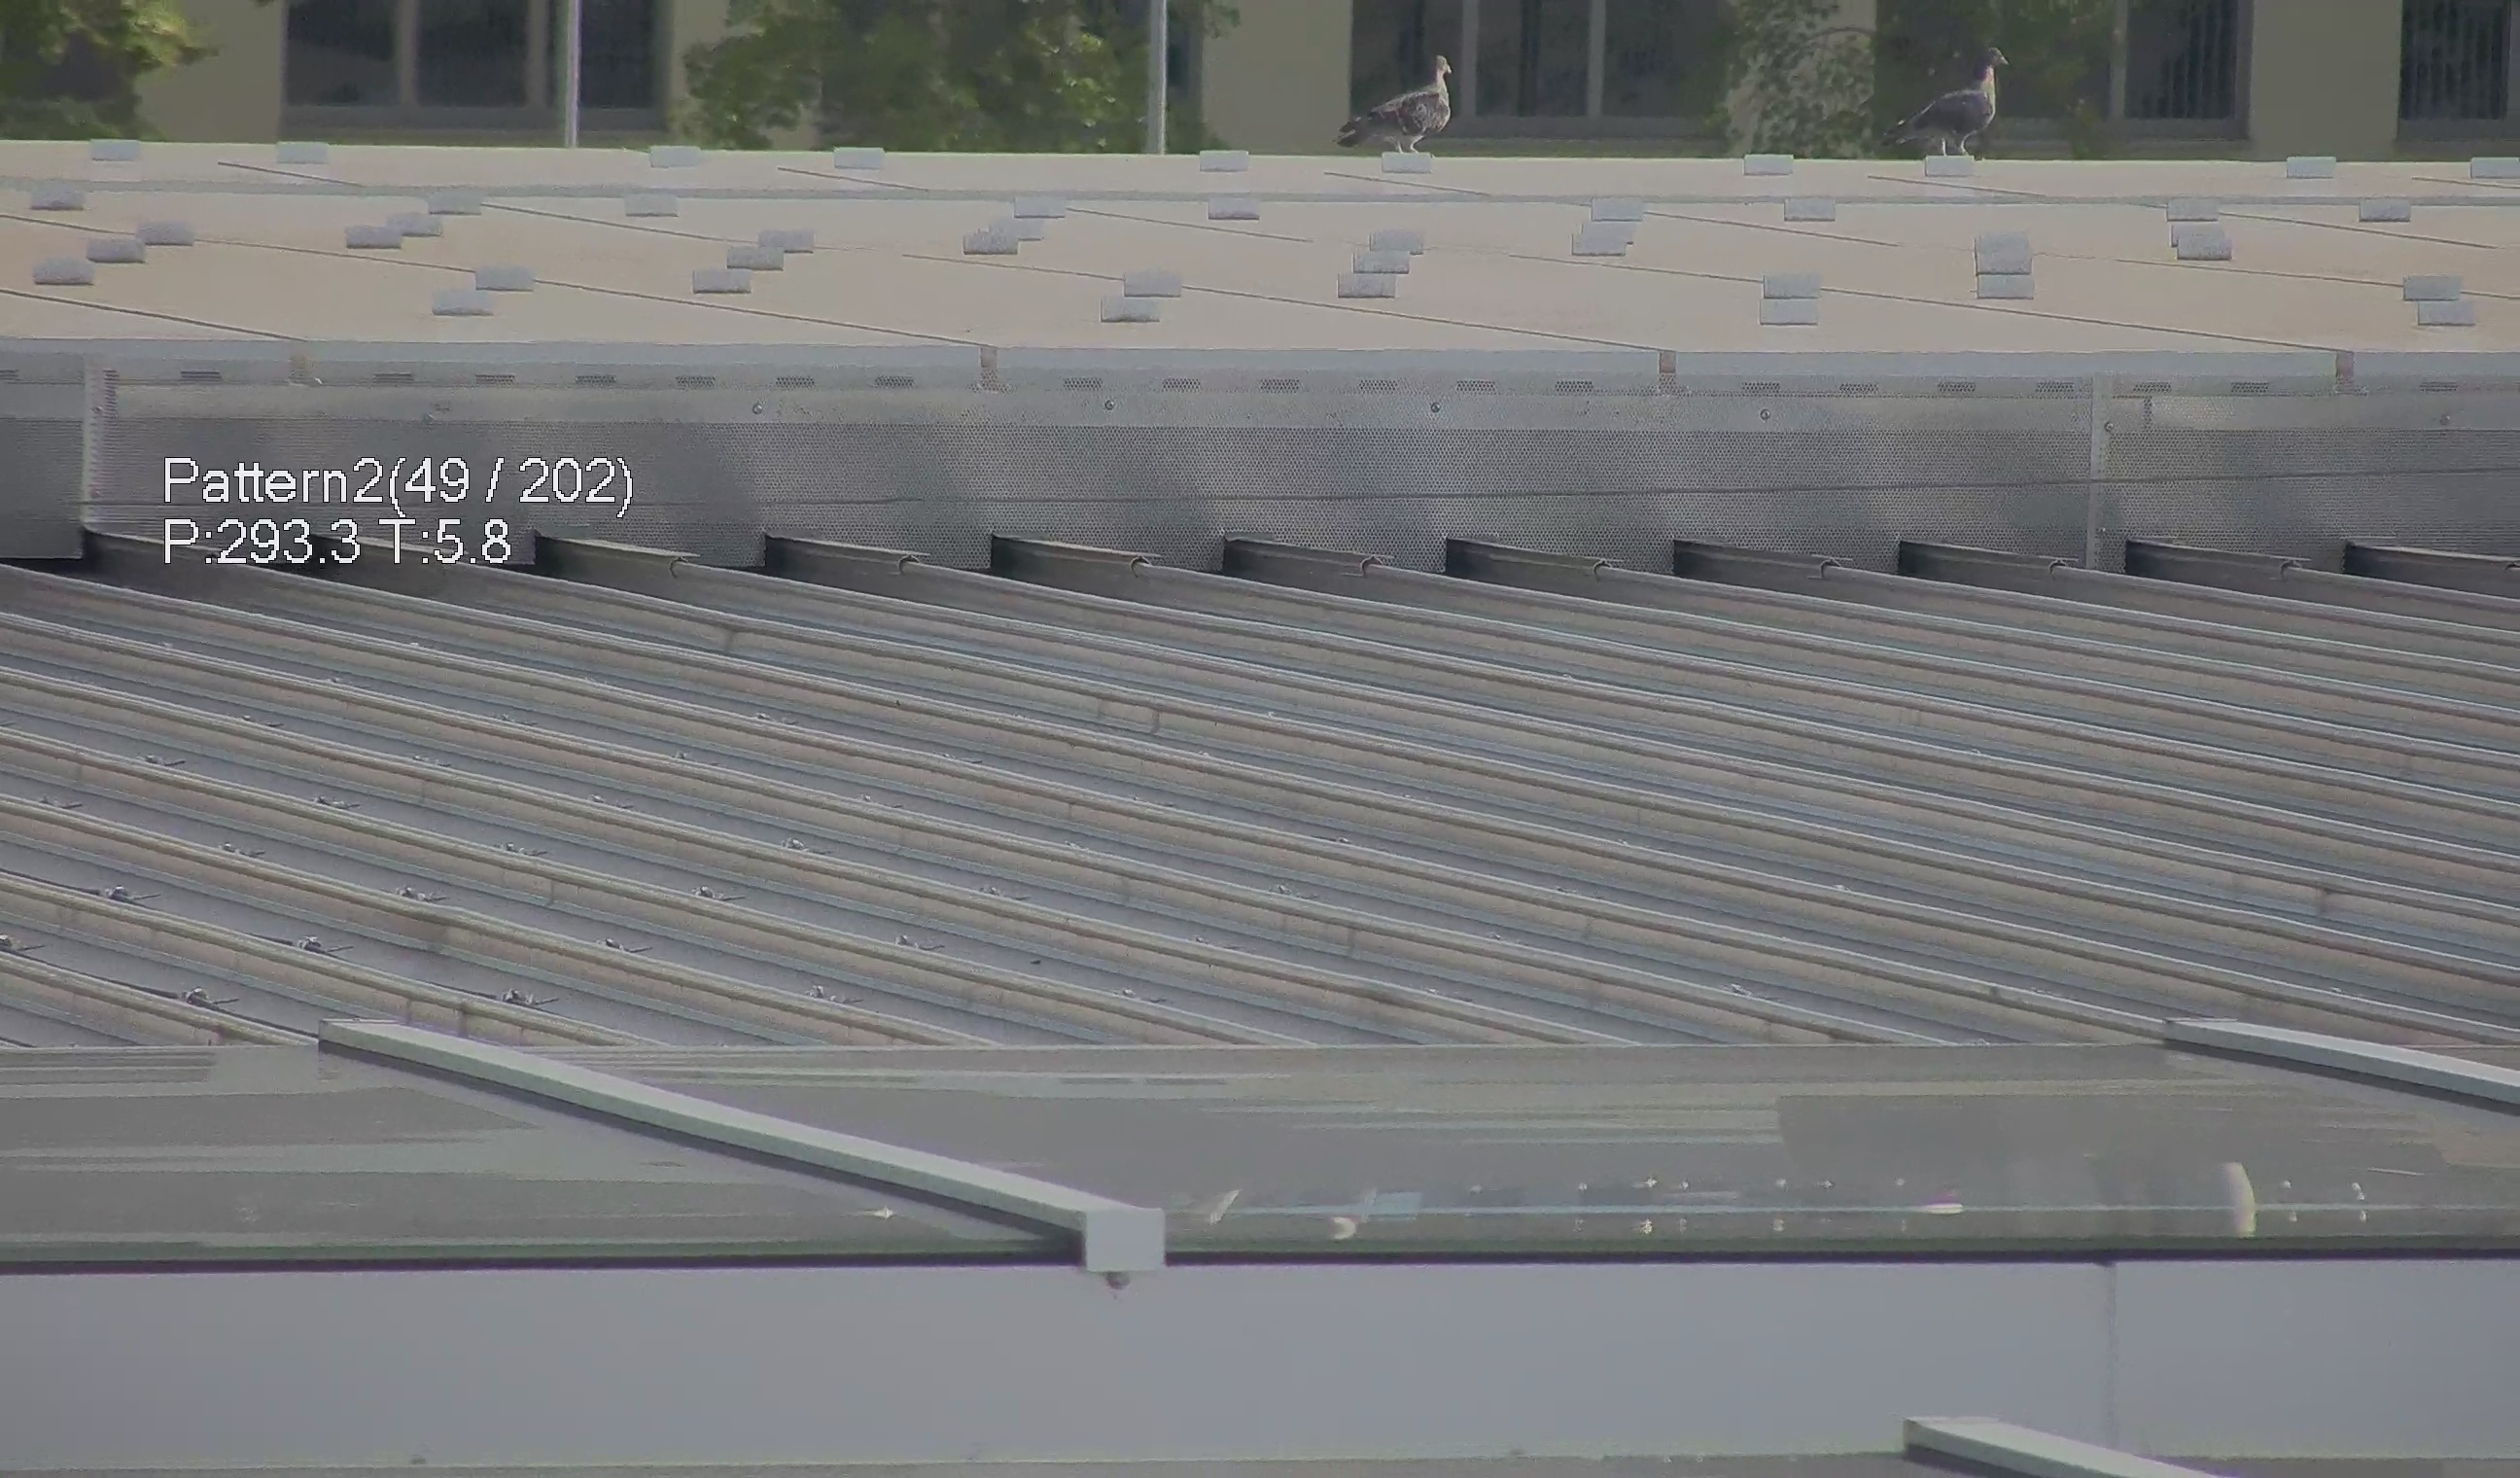Pigeon: (1897, 30, 2026, 158), (1331, 44, 1461, 164)
